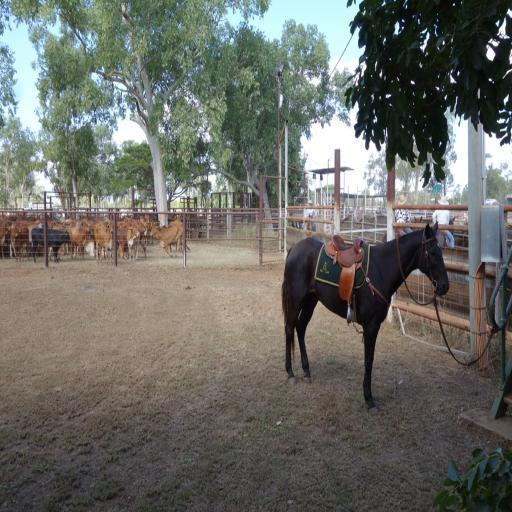horse: (280, 222, 450, 418)
